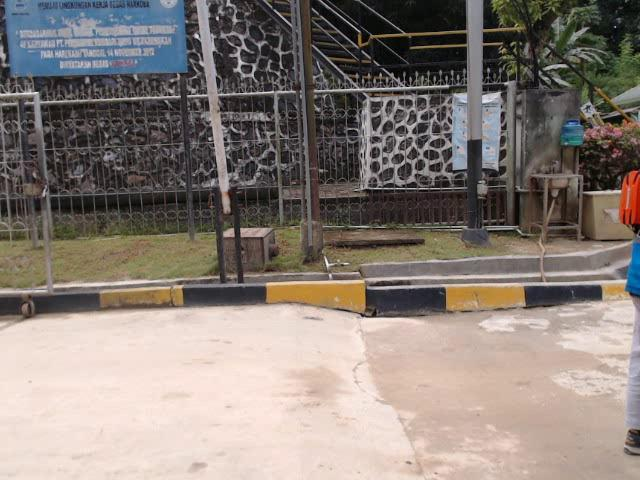safety-shoes: (619, 422, 640, 460)
vest: (619, 166, 640, 231)
